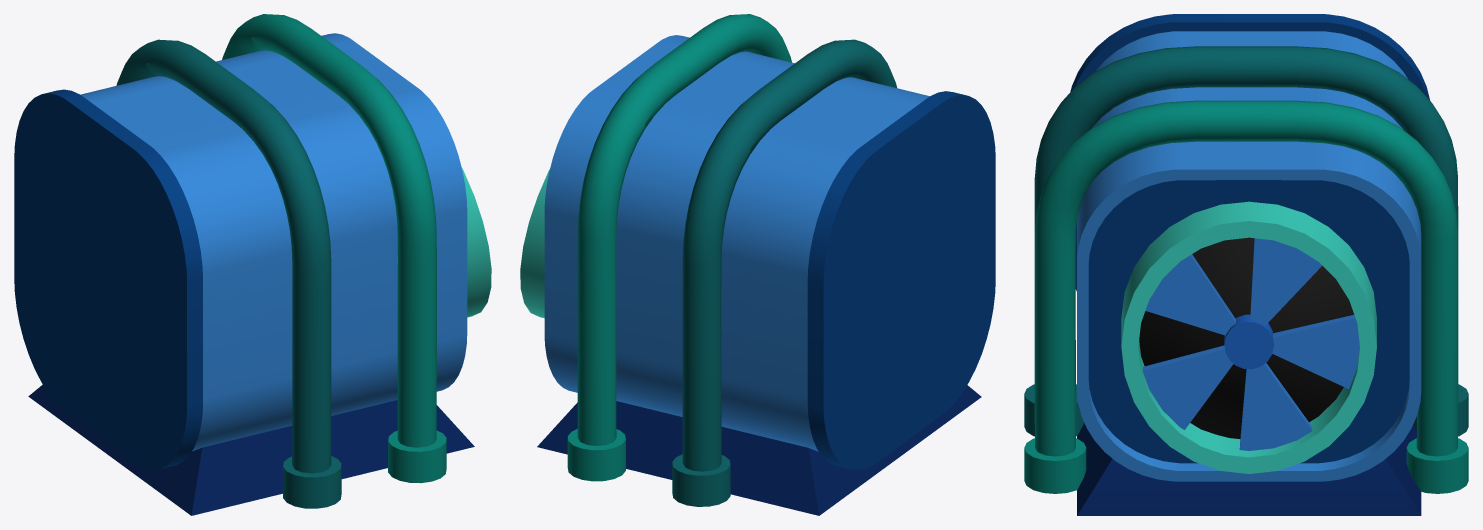
The model's file is 2025-12-06-Bruyn-CarbonCaptureSystem-v007.fbx.
The picture shows the model from 3 angles, left to right: view 1: azimuth 30°, elevation 25°; view 2: azimuth 150°, elevation 25°; view 3: azimuth 270°, elevation 25°; orthographic projection. The views are drawn at different scales.
Parts seen in each view (by area): view 1: Carbon Remover; view 2: Carbon Remover; view 3: Carbon Remover.
Part boxes in pixels (<box>): Carbon Remover: <box>14,14,491,515</box>; Carbon Remover: <box>520,14,995,515</box>; Carbon Remover: <box>1024,14,1468,515</box>.
Bounding box in the file's own units: 245 × 243 × 258.
